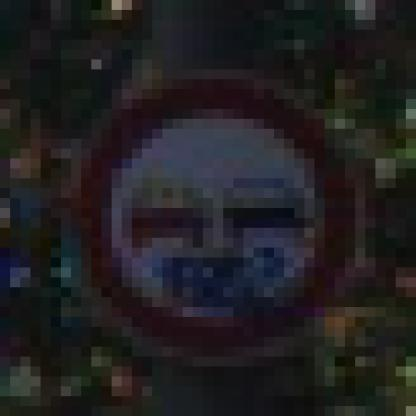No Overtaking: (52, 61, 366, 368)
